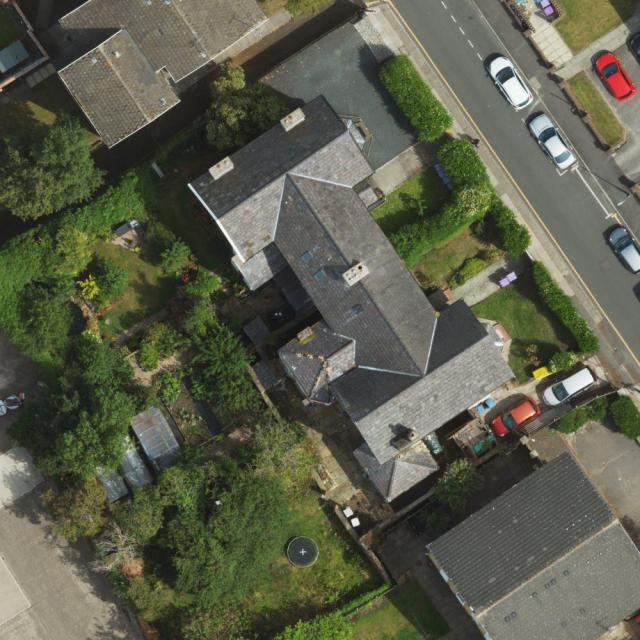roof: (189, 96, 516, 504), (426, 451, 640, 640), (58, 0, 268, 148)
skylight: (311, 268, 328, 283), (300, 250, 315, 265)
